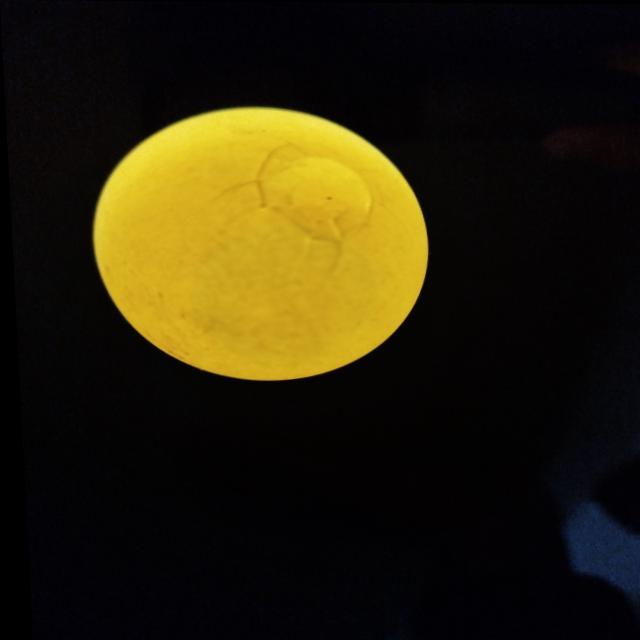Rachadura: (223, 139, 373, 250)
